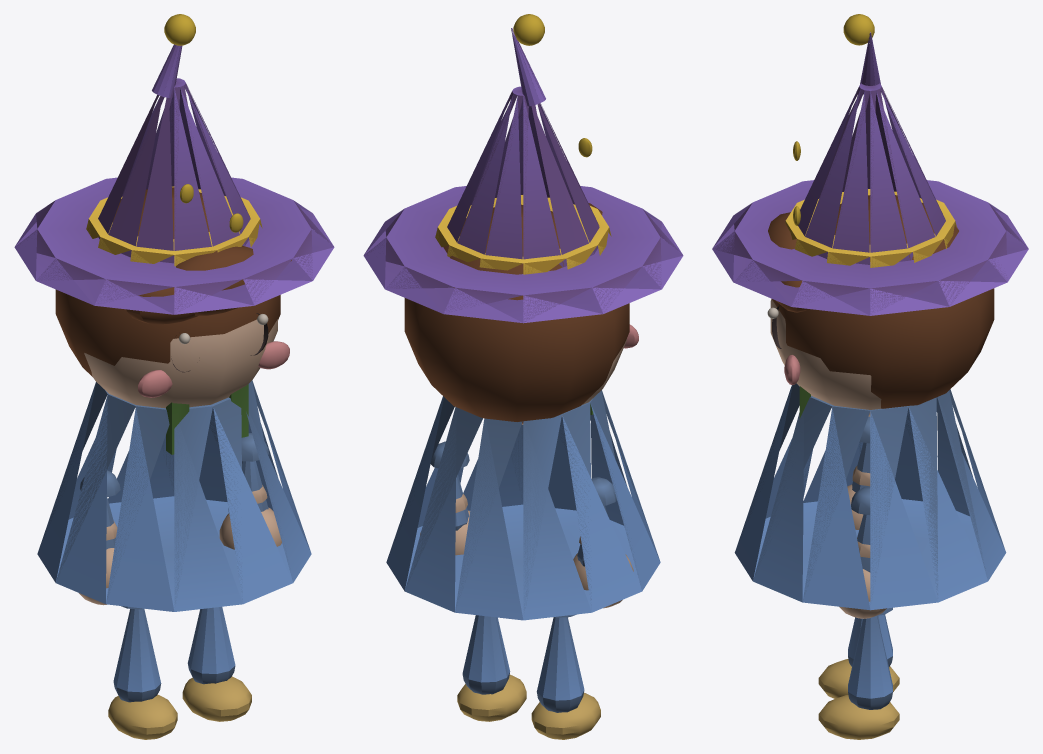
File: boy-wizard-rest.glb
3 renders of one model, left to right at view 1: azimuth 30°, elevation 25°; view 2: azimuth 150°, elevation 25°; view 3: azimuth 270°, elevation 25°, orthographic.
Visible parts, largest first — view 1: player_boy-wizard:rest; view 2: player_boy-wizard:rest; view 3: player_boy-wizard:rest.
Part boxes in pixels (box(x1,y1,x2,y2)): player_boy-wizard:rest: box(14, 14, 334, 739); player_boy-wizard:rest: box(363, 14, 683, 739); player_boy-wizard:rest: box(712, 14, 1028, 739).
Bounding box in the file's own units: 0.56 × 1.37 × 0.56.
